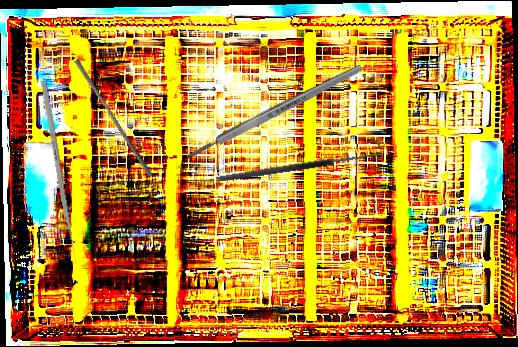Hook Surgical: (214, 142, 383, 184)
Pusher: (70, 58, 158, 178), (40, 80, 79, 264)
Scalpel Handle: (184, 62, 365, 162)
